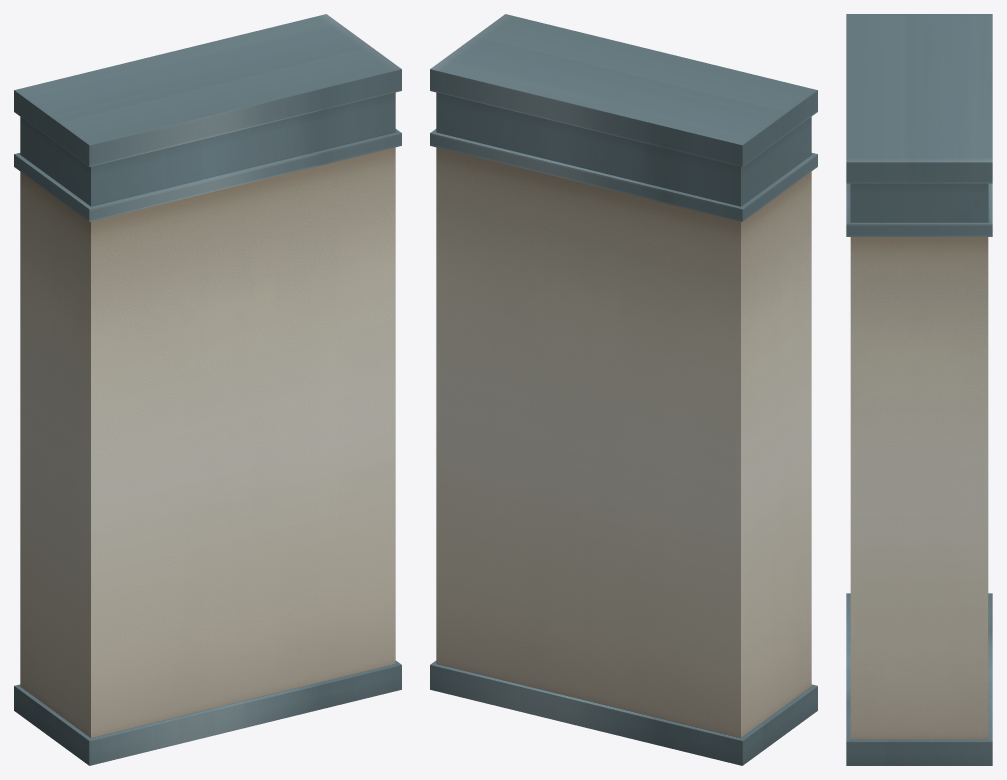
File: Pillar_01_02.fbx
3 renders of one model, left to right at view 1: azimuth 30°, elevation 25°; view 2: azimuth 150°, elevation 25°; view 3: azimuth 270°, elevation 25°, orthographic. The views are drawn at different scales.
Parts seen in each view (by area): view 1: pillar_01_02; view 2: pillar_01_02; view 3: pillar_01_02.
Boxes of the visible parts, x1,y1,x2,y2 form: pillar_01_02: [14, 14, 401, 765]; pillar_01_02: [430, 14, 817, 765]; pillar_01_02: [846, 14, 992, 765].
Size of the model in its own units: 158 by 300 by 66.
